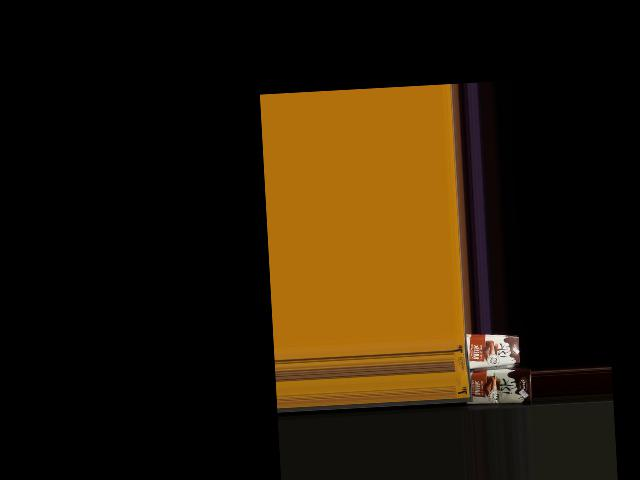chocolate: (459, 328, 522, 369)
